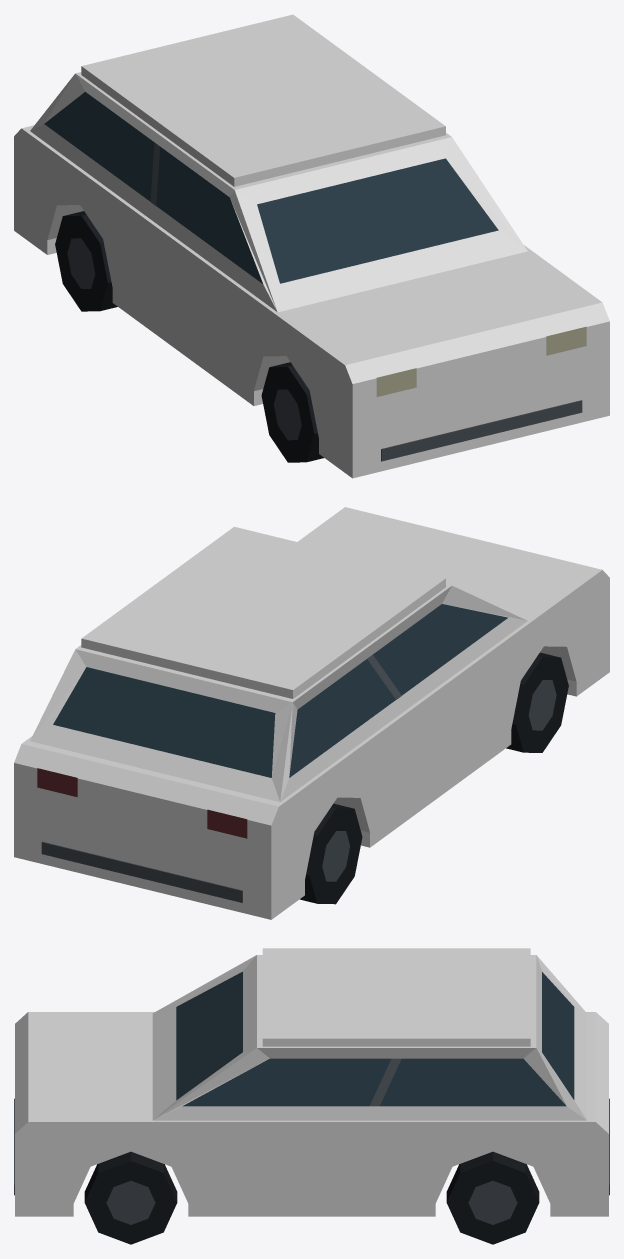
Rendered from hatchback.glb.
The picture shows the model from 3 angles, top to bottom: view 1: azimuth 30°, elevation 25°; view 2: azimuth 150°, elevation 25°; view 3: azimuth 270°, elevation 25°; orthographic projection. The views are drawn at different scales.
Visible parts, largest first — view 1: vehicle_body; view 2: vehicle_body; view 3: vehicle_body.
Boxes of the visible parts, box(x1,y1,x2,y2) form: vehicle_body: box(14, 14, 609, 478); vehicle_body: box(14, 507, 609, 919); vehicle_body: box(14, 948, 609, 1244).
Bounding box in the file's own units: 1.8 × 1.5 × 4.12.
